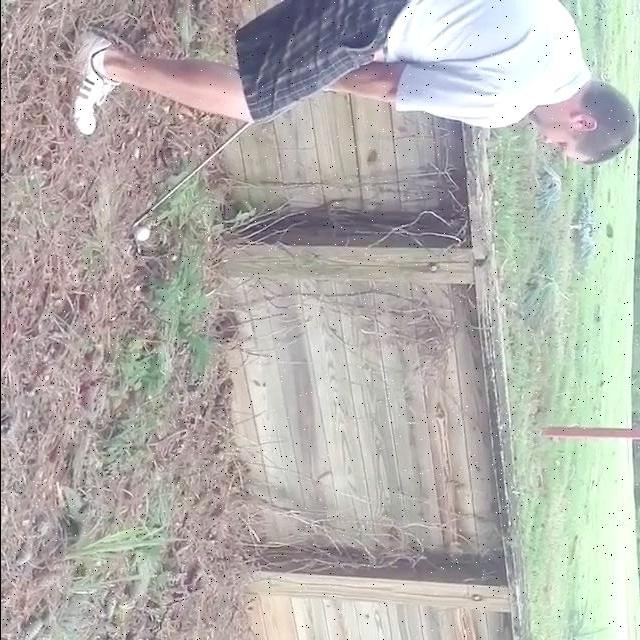golf ball: (135, 226, 149, 242)
golf club-handle: (127, 116, 257, 256)
golf club-head: (132, 230, 141, 256)
